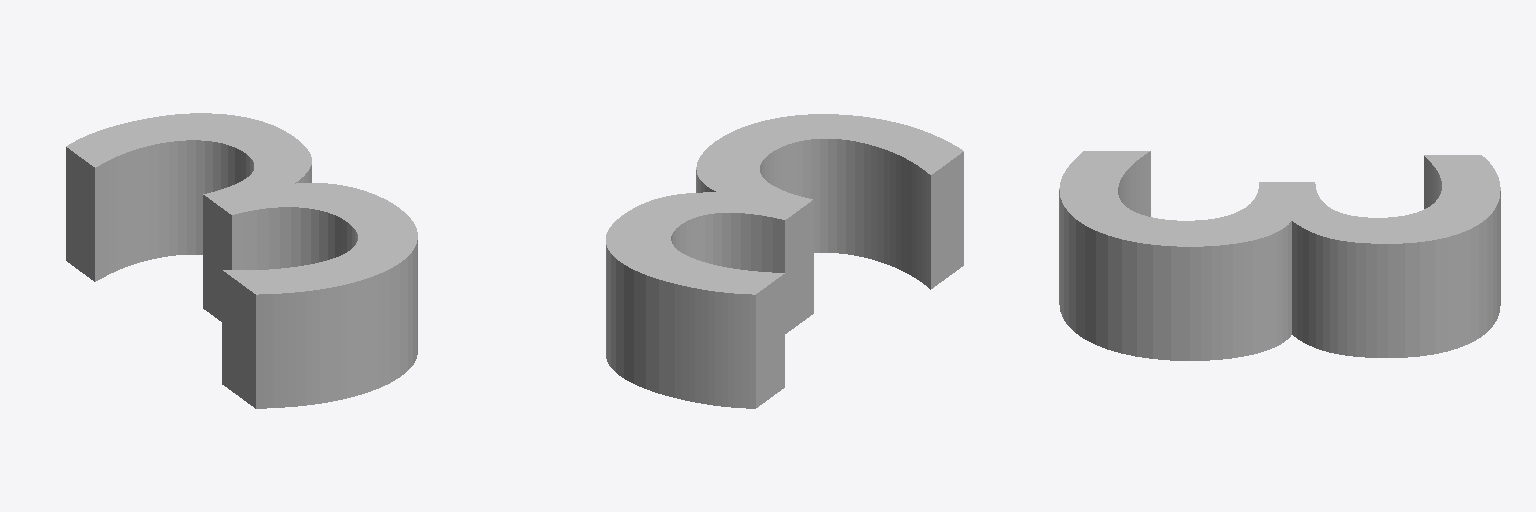
3 renders of one model, left to right at view 1: azimuth 30°, elevation 25°; view 2: azimuth 150°, elevation 25°; view 3: azimuth 270°, elevation 25°, orthographic.
Visible parts, largest first — view 1: テキスト; view 2: テキスト; view 3: テキスト.
Boxes of the visible parts, x1=… form: テキスト: x1=66, y1=113, x2=417, y2=408; テキスト: x1=606, y1=114, x2=963, y2=408; テキスト: x1=1059, y1=151, x2=1500, y2=360.
Bounding box in the file's own units: 0.36 × 0.2 × 0.7.